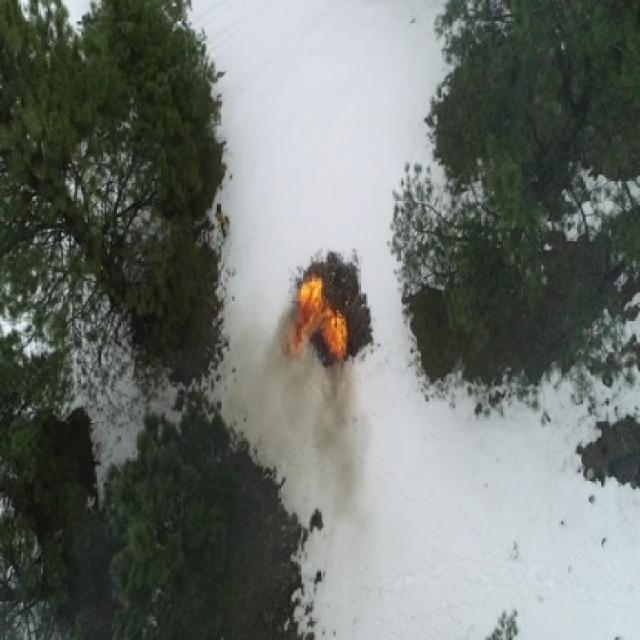Fire: (321, 300, 346, 360), (298, 275, 324, 328), (283, 326, 311, 352)
